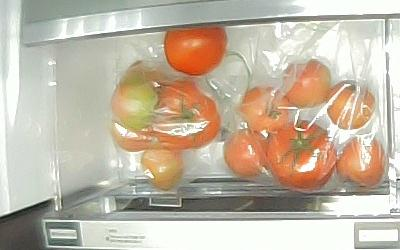tomato_vinyl: (267, 120, 337, 191), (158, 78, 221, 149), (164, 27, 230, 75), (335, 134, 386, 189), (111, 75, 158, 129), (329, 81, 378, 129), (283, 58, 330, 108), (241, 86, 290, 132), (224, 129, 270, 177), (110, 111, 157, 152), (142, 146, 185, 190)
